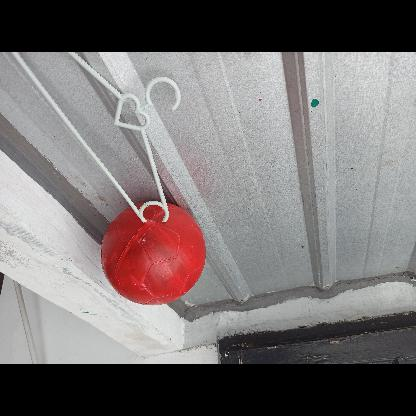red_ball: (102, 202, 209, 309)
